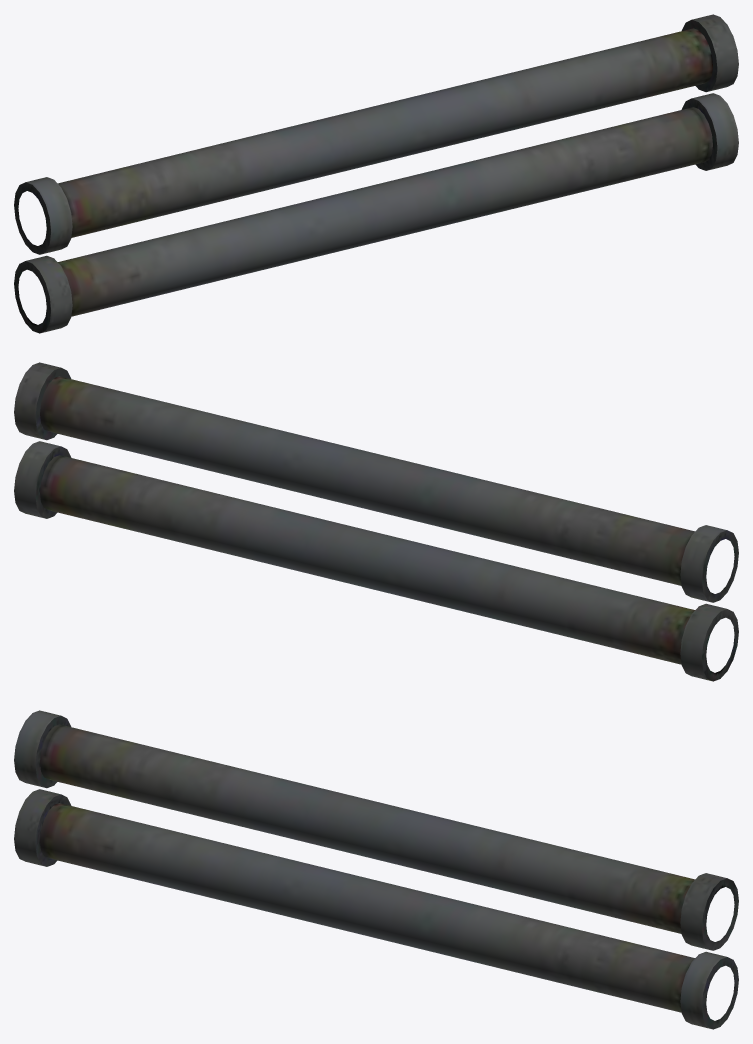
The picture shows the model from 3 angles, top to bottom: view 1: azimuth 30°, elevation 25°; view 2: azimuth 150°, elevation 25°; view 3: azimuth 330°, elevation 25°; orthographic projection.
Parts seen in each view (by area): view 1: body0_model0_lod0_mesh0; view 2: body0_model0_lod0_mesh0; view 3: body0_model0_lod0_mesh0.
Part boxes in pixels (x1,y1,x2,y2): body0_model0_lod0_mesh0: (14, 14, 738, 333); body0_model0_lod0_mesh0: (14, 362, 738, 681); body0_model0_lod0_mesh0: (14, 710, 738, 1029).
Size of the model in its own units: 64 by 12.99 by 5.99.
Materials: 1 (1 with a texture image).
